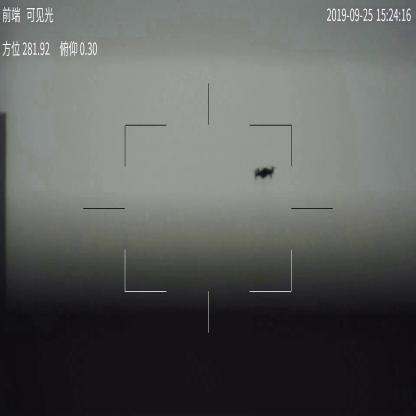uav: (253, 163, 276, 180)
